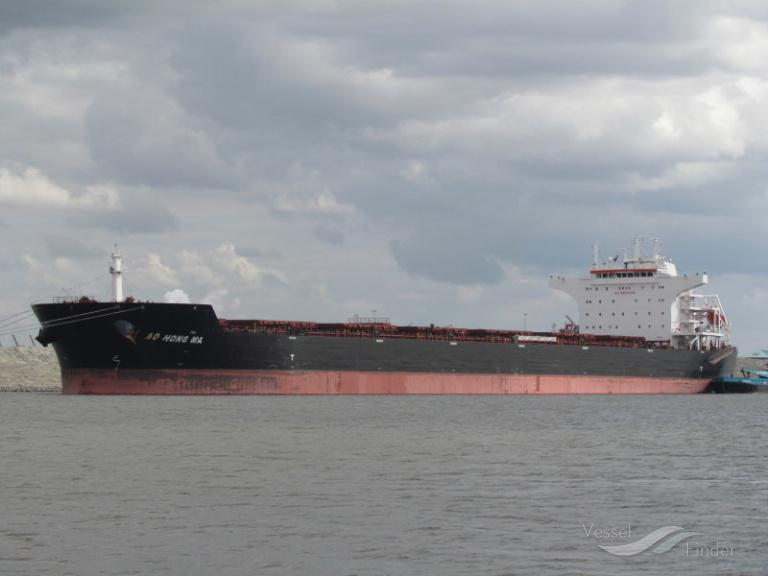OCR: (143, 324, 211, 346)
